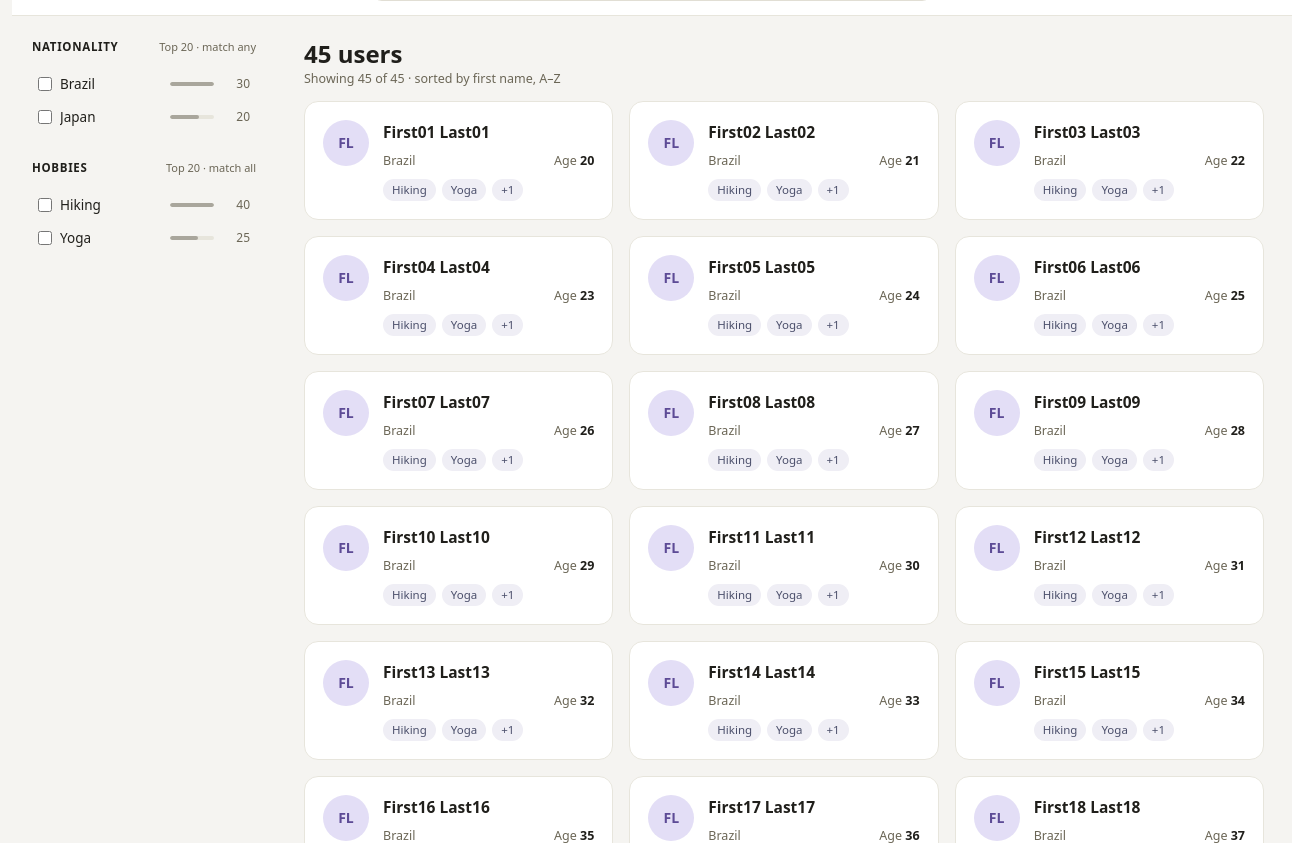
Test: URL-synced state › ticking a sidebar filter writes it to the URL and refreshes the list AND both facet lists
Expected: the heading "First01 Last01" is shown, [383,121,490,143]
Click the checkbox labelled "Japan 20" at (45,117), box [38,110,52,124]
(page scrolled)
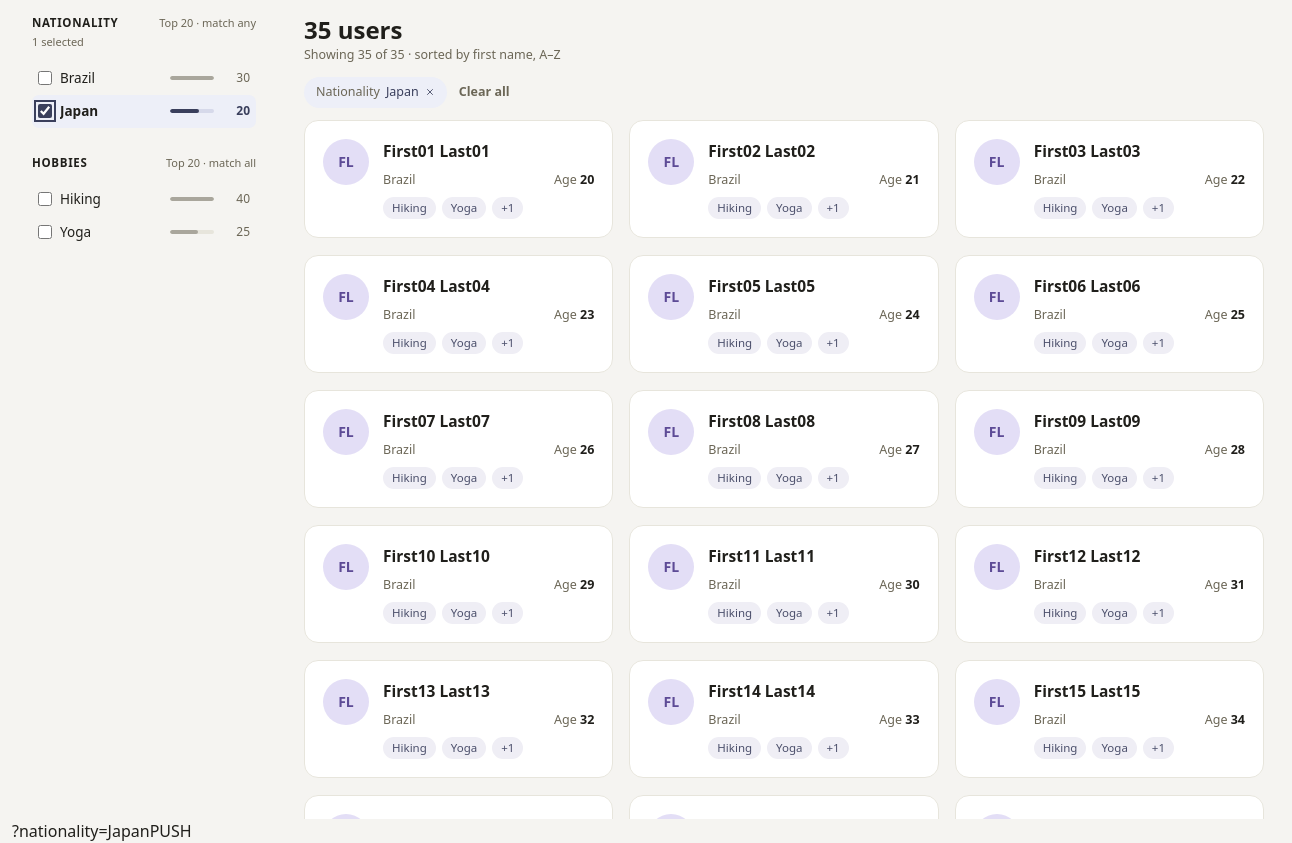
Expected: the text with test id "location" reads "?nationality=Japan", [12,820,150,842]
